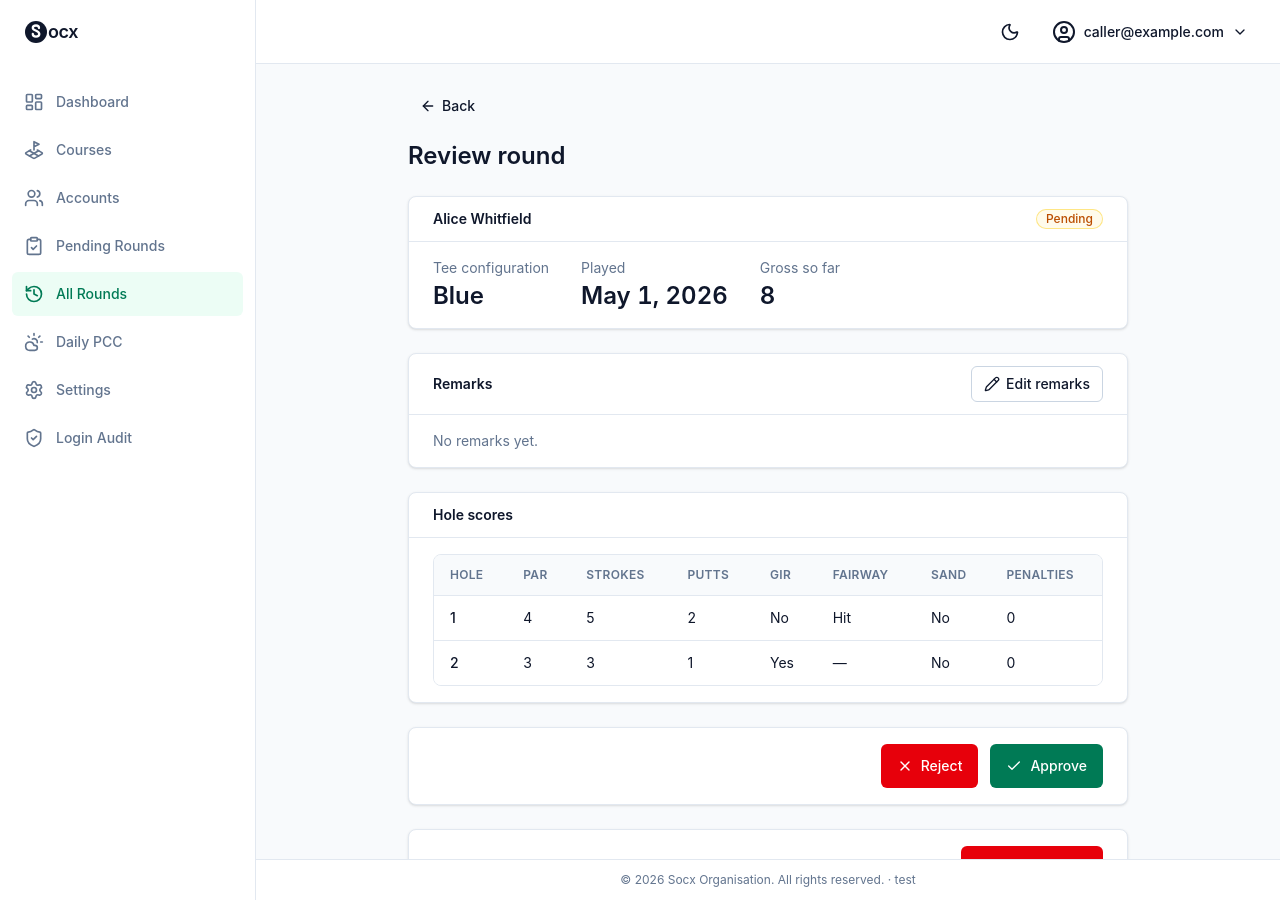
Scenario: AdminRoundReviewPage › disables the Reject confirm button until a non-empty reason is entered
Click the button "Reject" at (930, 766), box [881, 744, 978, 788]
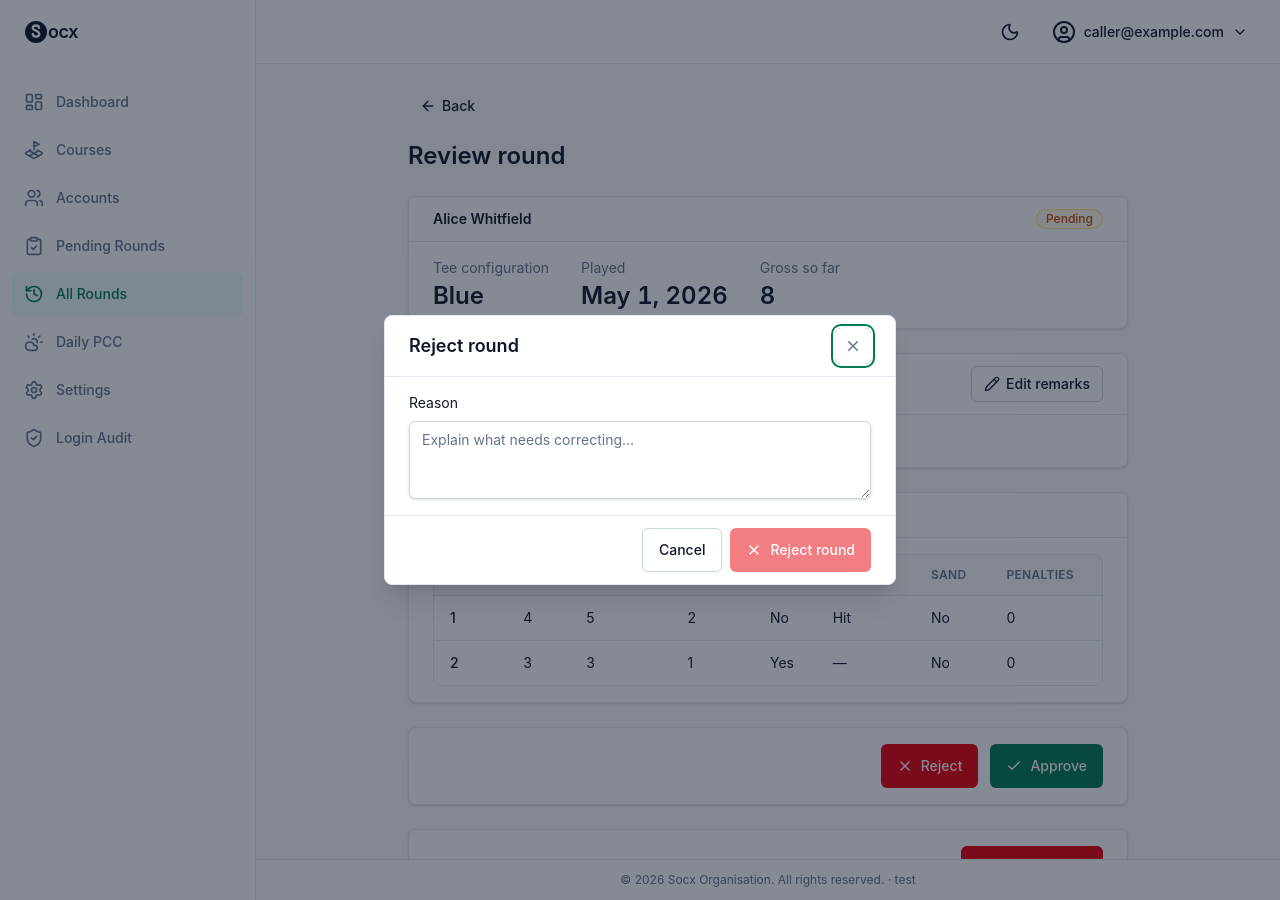
Result: the button "Reject round" is disabled at [730, 528, 871, 572]
Type "Missing hole 2 score." into the text box labelled "Reason" at (640, 460), box [409, 421, 871, 499]
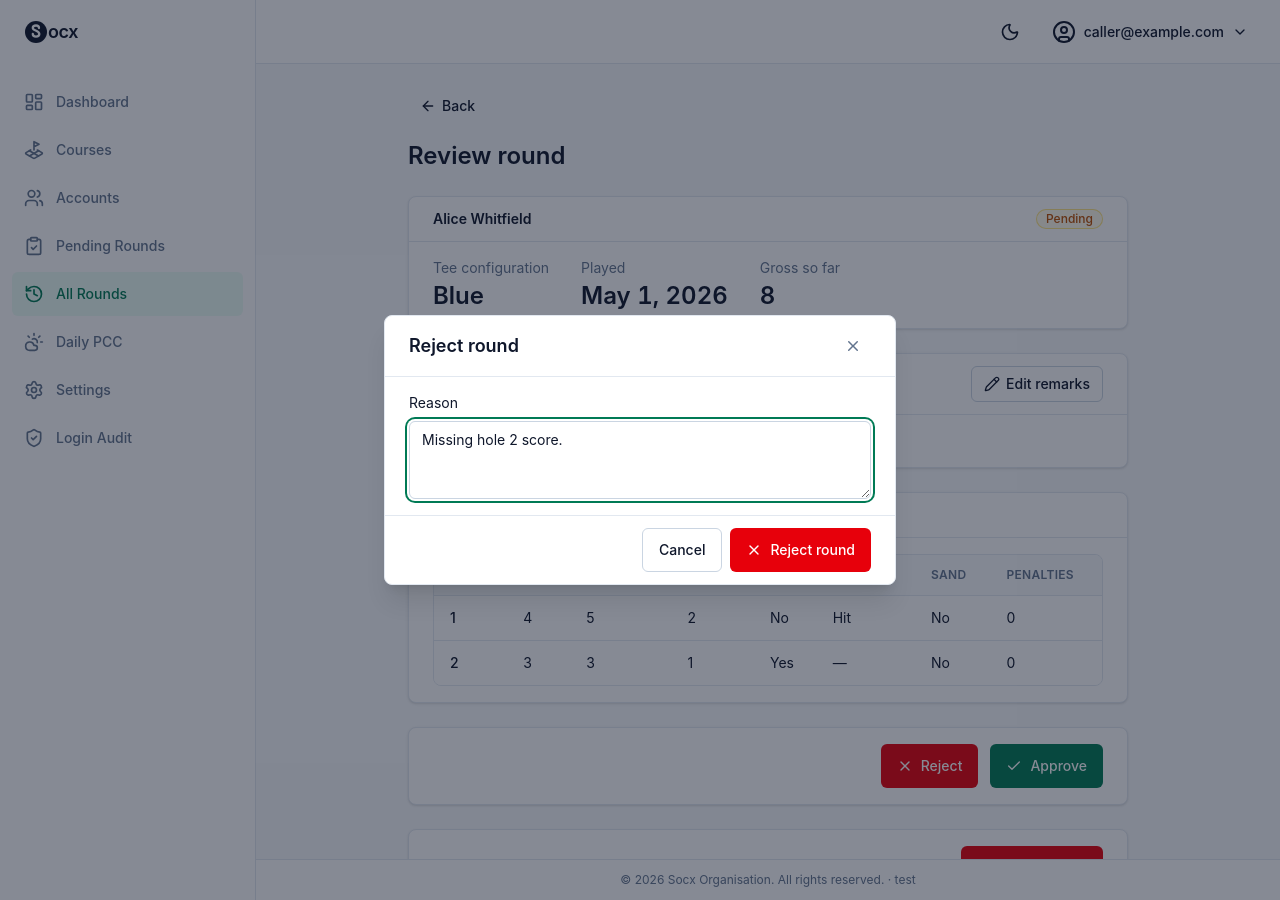
Result: the button "Reject round" is enabled at [730, 528, 871, 572]
